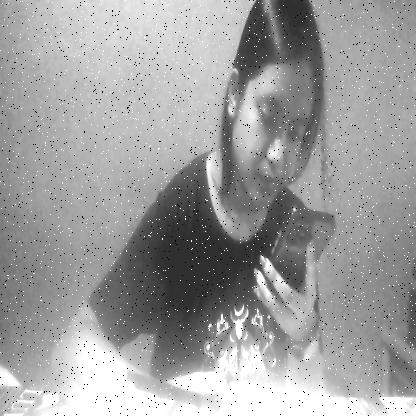Distracted: (233, 49, 324, 207)
